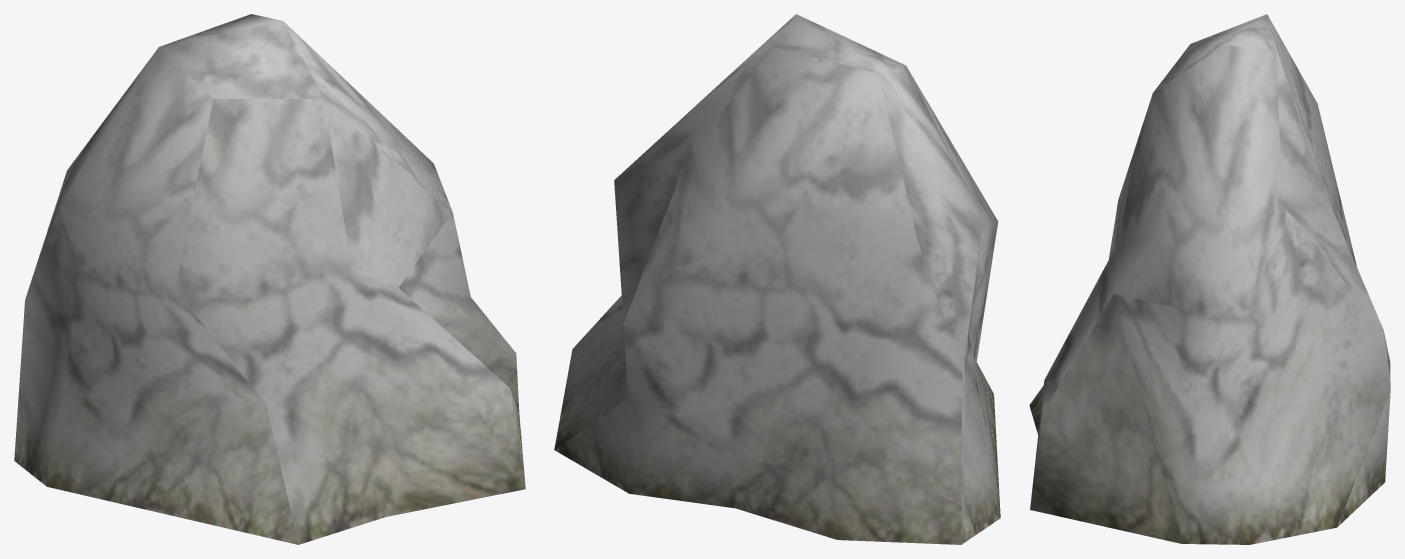
The model's file is general_obj_bigstone07_lod_01.fbx.
The picture shows the model from 3 angles, left to right: view 1: azimuth 30°, elevation 25°; view 2: azimuth 150°, elevation 25°; view 3: azimuth 270°, elevation 25°; orthographic projection. The views are drawn at different scales.
Parts seen in each view (by area): view 1: Sphere01fs; view 2: Sphere01fs; view 3: Sphere01fs.
Boxes of the visible parts, left/top/right/bottom form: Sphere01fs: left=14, top=14, right=525, bottom=544; Sphere01fs: left=554, top=14, right=1000, bottom=544; Sphere01fs: left=1029, top=14, right=1390, bottom=544.
Size of the model in its own units: 12.68 by 11.95 by 9.73.
